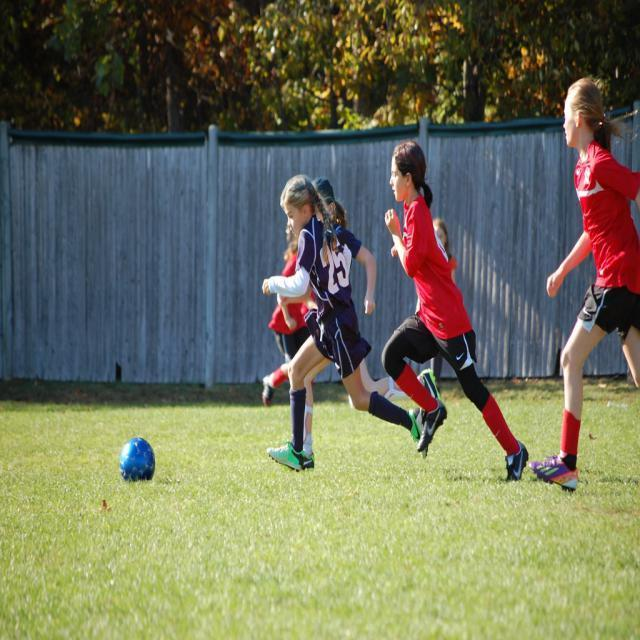football: (110, 427, 166, 484)
